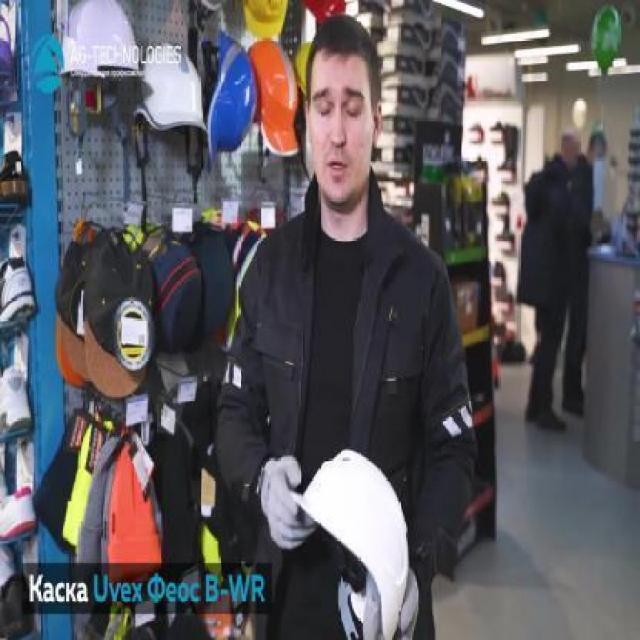Gloves: (258, 454, 316, 552)
Helmet: (291, 442, 411, 638), (134, 41, 212, 137), (58, 0, 142, 82), (208, 31, 257, 166), (254, 42, 300, 162)
